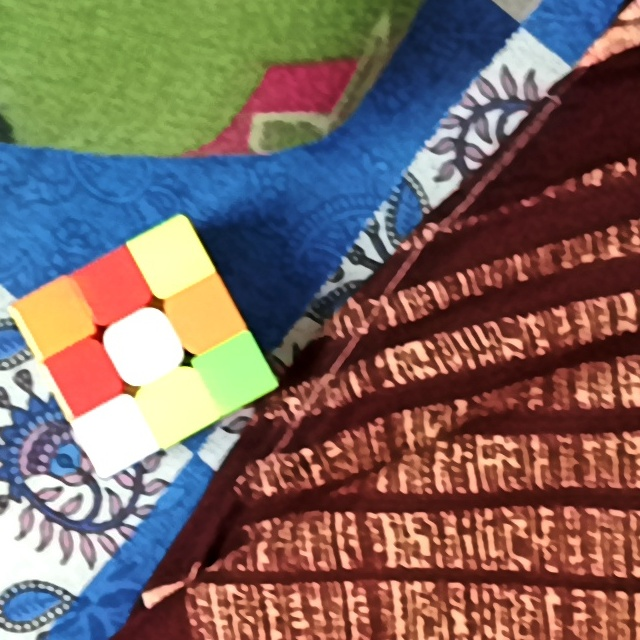tile: (211, 352, 259, 398), (120, 325, 170, 369), (152, 384, 197, 431), (89, 415, 137, 458), (92, 268, 133, 314), (151, 236, 195, 278), (65, 358, 110, 399), (38, 296, 77, 340), (189, 296, 227, 337)
